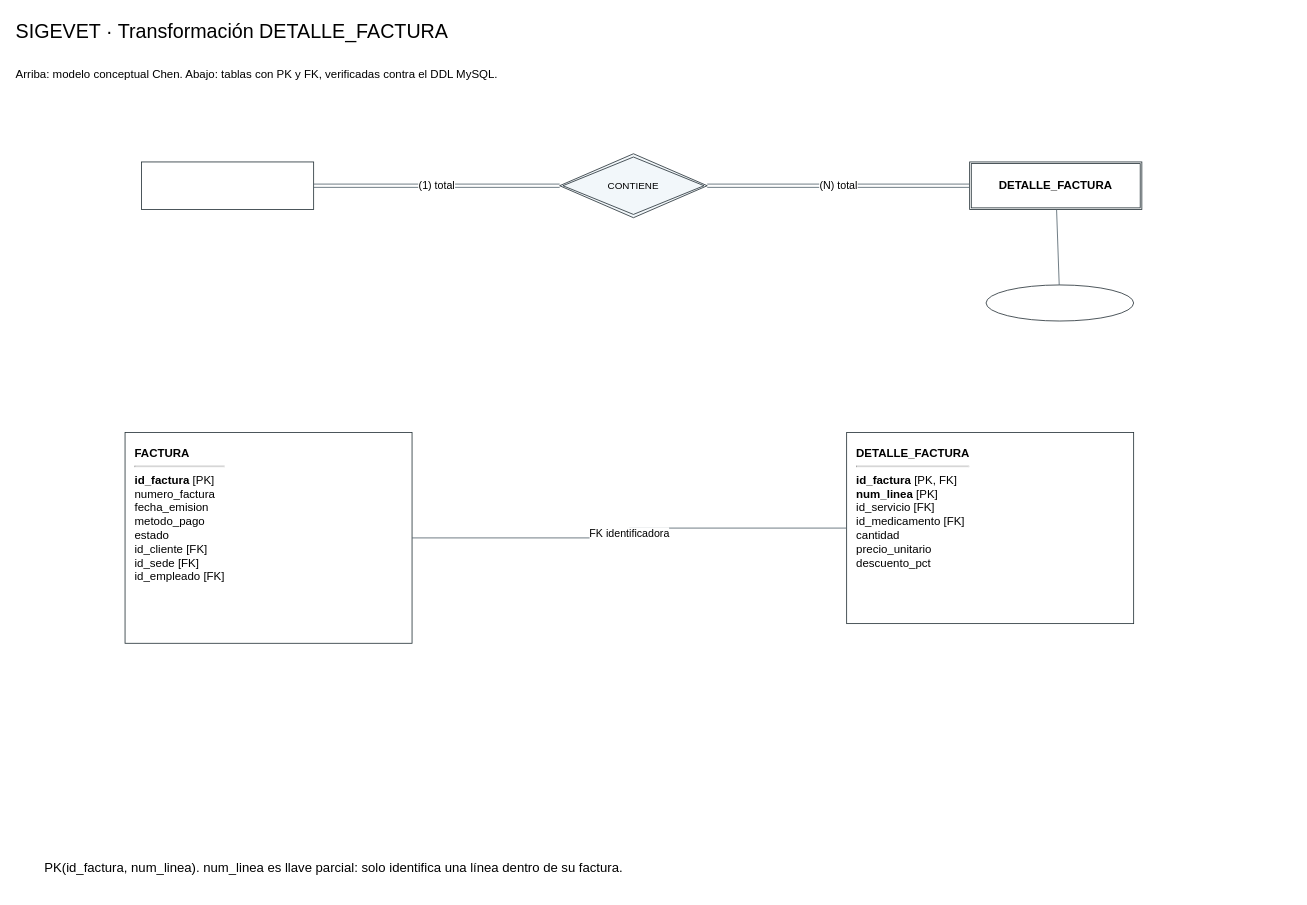
The diagram is 1307 pixels wide and 905 high, and some of its shapes have lost their labels. The centre of each missing label's shape, as x and y in pixels:
"FACTURA" belongs at (227,185).
"num_linea" belongs at (1059,302).
